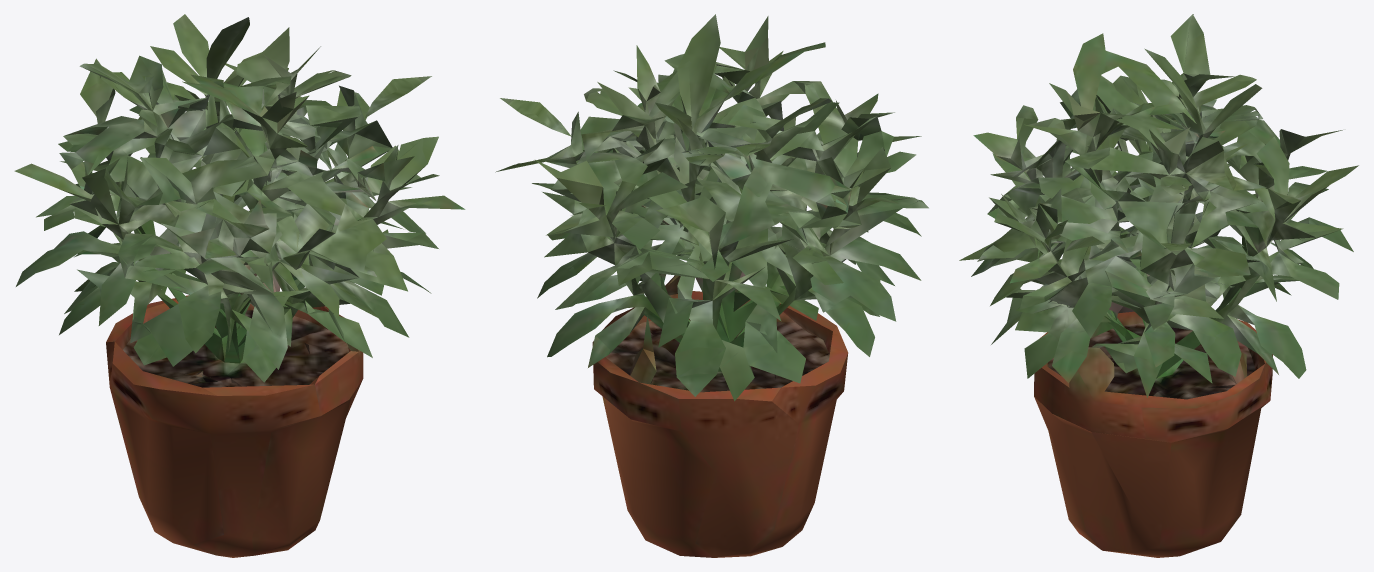
File: potplant.glb
The picture shows the model from 3 angles, left to right: view 1: azimuth 30°, elevation 25°; view 2: azimuth 150°, elevation 25°; view 3: azimuth 270°, elevation 25°; orthographic projection. The views are drawn at different scales.
Parts seen in each view (by area): view 1: potplant; view 2: potplant; view 3: potplant.
Boxes of the visible parts, <box> form: potplant: <box>14,14,465,557</box>; potplant: <box>495,14,928,557</box>; potplant: <box>959,14,1358,557</box>.
Size of the model in its own units: 0.6285 by 0.75 by 0.5615.
1 material, 1 textured.
